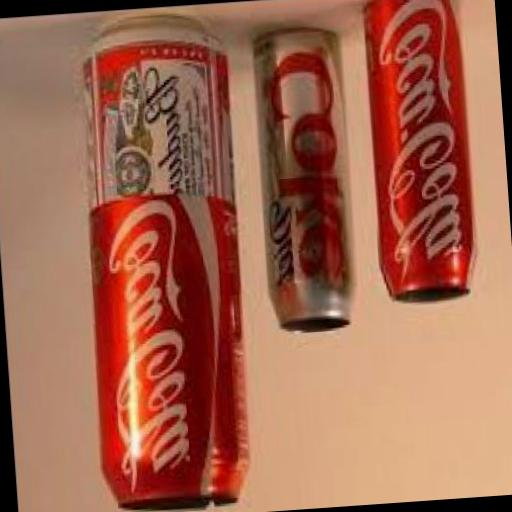metal: (64, 11, 257, 512), (357, 0, 478, 307), (246, 20, 361, 336)
